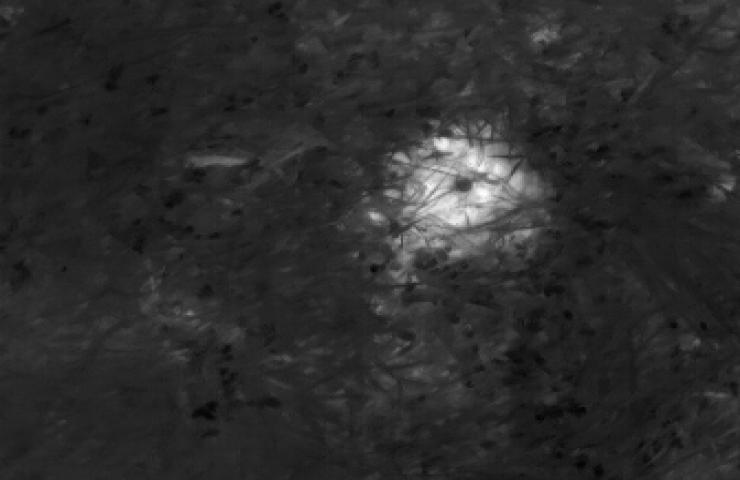landmines: (381, 122, 544, 263)
